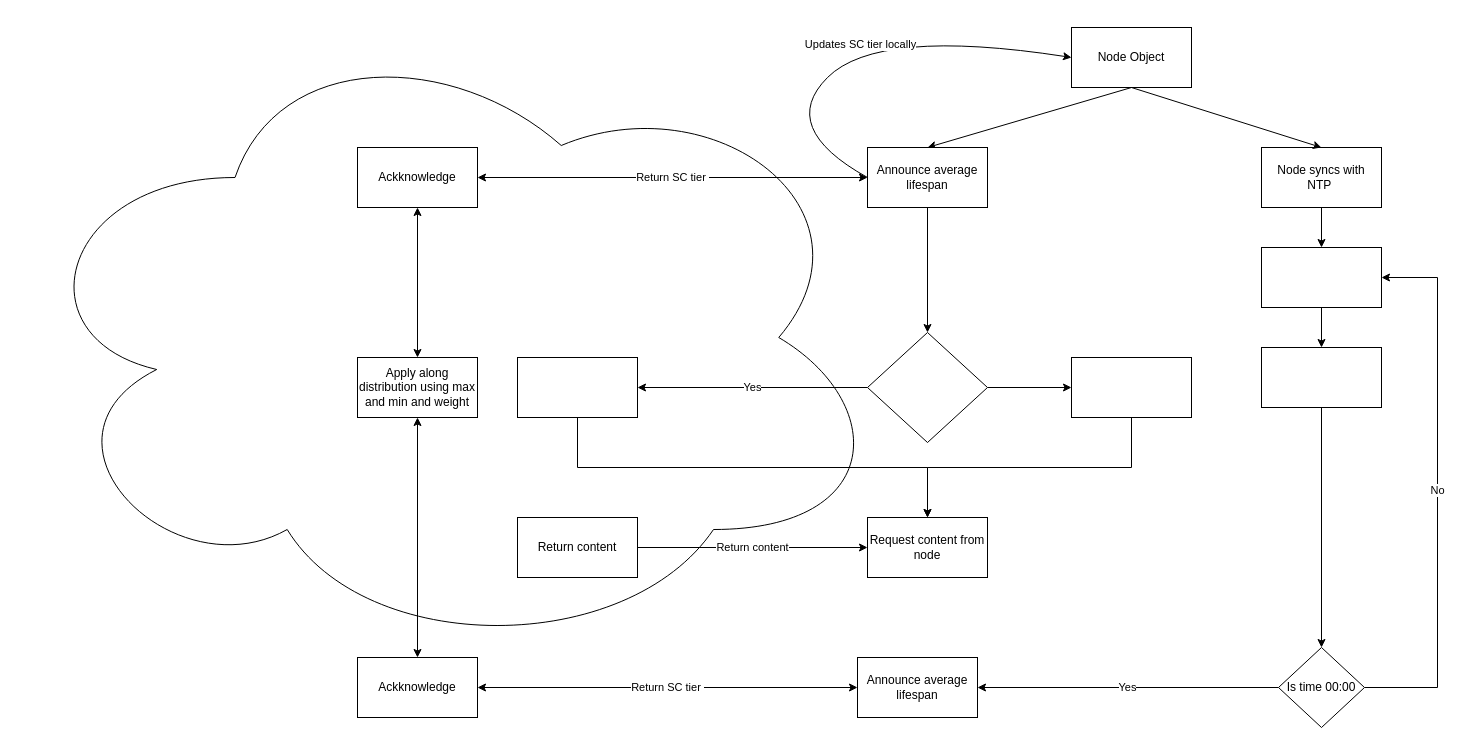
Image size: 1463x745. Some labels were removed from this diagram. Here are the shapes that lost their labels. From the top down, the centre of each, then its label:
At point 1321,277: "Start lifespan counter".
At point 577,387: "Acknowledge".
At point 927,387: "Request if any CU needs this SC tier.".
At point 1131,387: "Create new CU and become master node".
At point 1321,377: "Increment counter".
